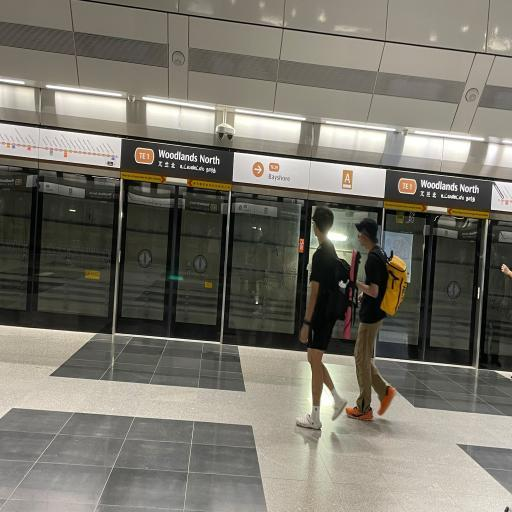person_left: (350, 208, 408, 432), (298, 200, 346, 442)
